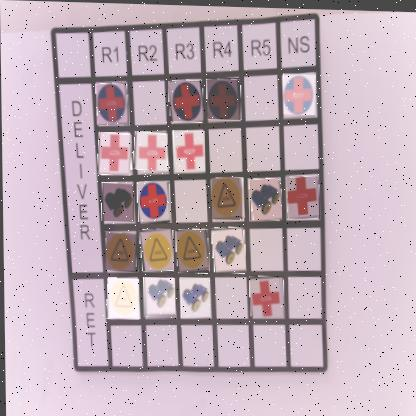OrderBlue: (170, 80, 205, 123), (208, 77, 242, 121), (138, 181, 172, 225), (97, 82, 130, 127), (284, 73, 318, 115)
OrderGurney: (213, 227, 247, 274), (143, 278, 177, 321), (250, 177, 283, 221), (180, 277, 212, 320), (102, 183, 136, 223)
OrderRed: (250, 275, 286, 319), (98, 132, 133, 177), (173, 130, 207, 174), (287, 175, 321, 219), (134, 131, 169, 172)
OrderYellow: (140, 228, 175, 273), (177, 229, 210, 274), (212, 177, 245, 221), (107, 278, 141, 320), (105, 232, 139, 273)
